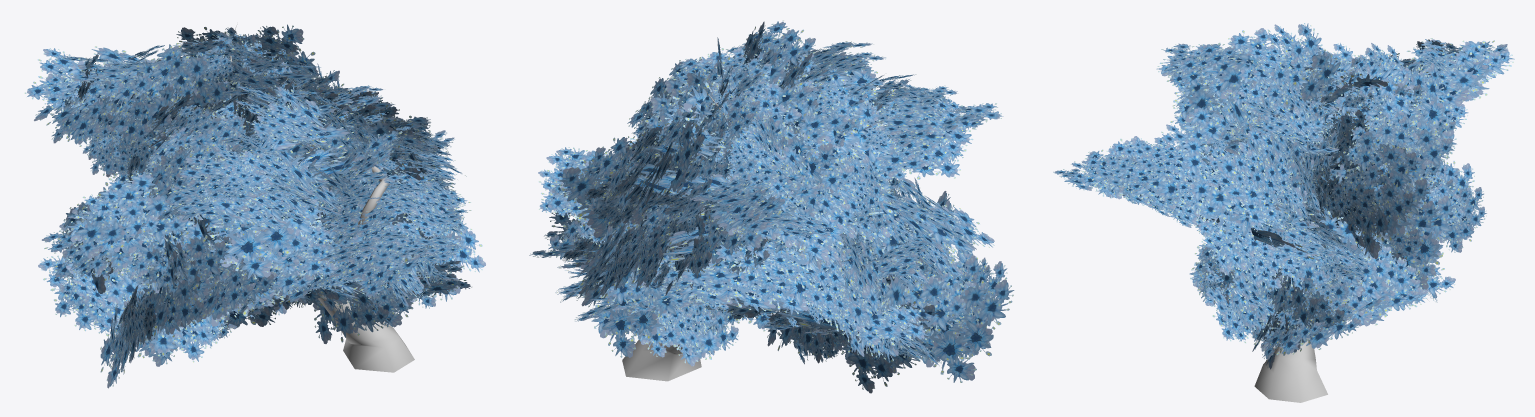
File: PeaceShrub.fbx
The picture shows the model from 3 angles, left to right: view 1: azimuth 30°, elevation 25°; view 2: azimuth 150°, elevation 25°; view 3: azimuth 270°, elevation 25°; orthographic projection. The views are drawn at different scales.
Visible parts, largest first — view 1: BezierCurve; view 2: BezierCurve; view 3: BezierCurve.
Part boxes in pixels (x1,y1,x2,y2): BezierCurve: [24, 24, 485, 388]; BezierCurve: [529, 20, 1014, 393]; BezierCurve: [1053, 23, 1514, 402].
Bounding box in the file's own units: 2.46 × 2.02 × 2.64.
